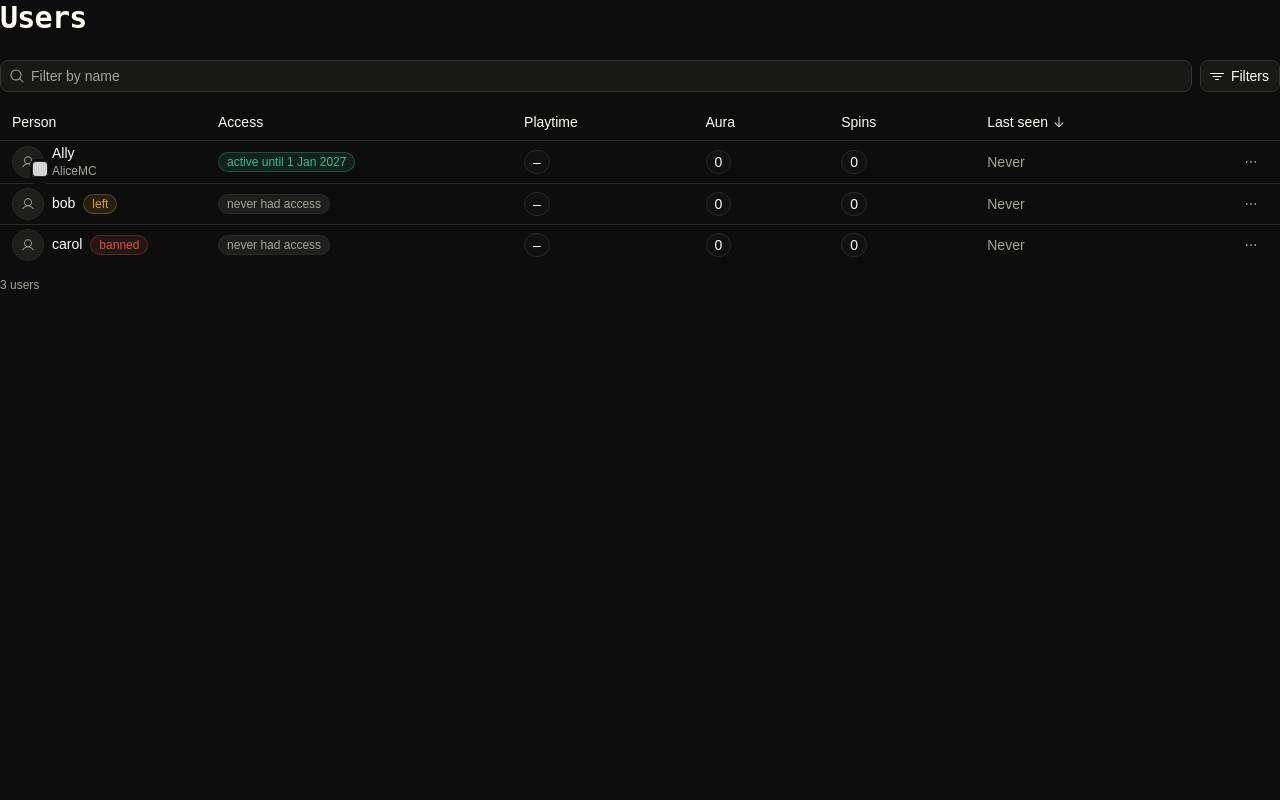
Scenario: AccessPage - access changes are asked of the bot › grants from a person's row with no id to type, and has no grant of its own at the top
The image size is (1280, 800).
Expected: the button "Grant access" is not shown
What coordinates should you click on to do the following:
click the button named "Actions for"
I would click on:
 (1251, 162)
Its box is [1234,145,1268,179].
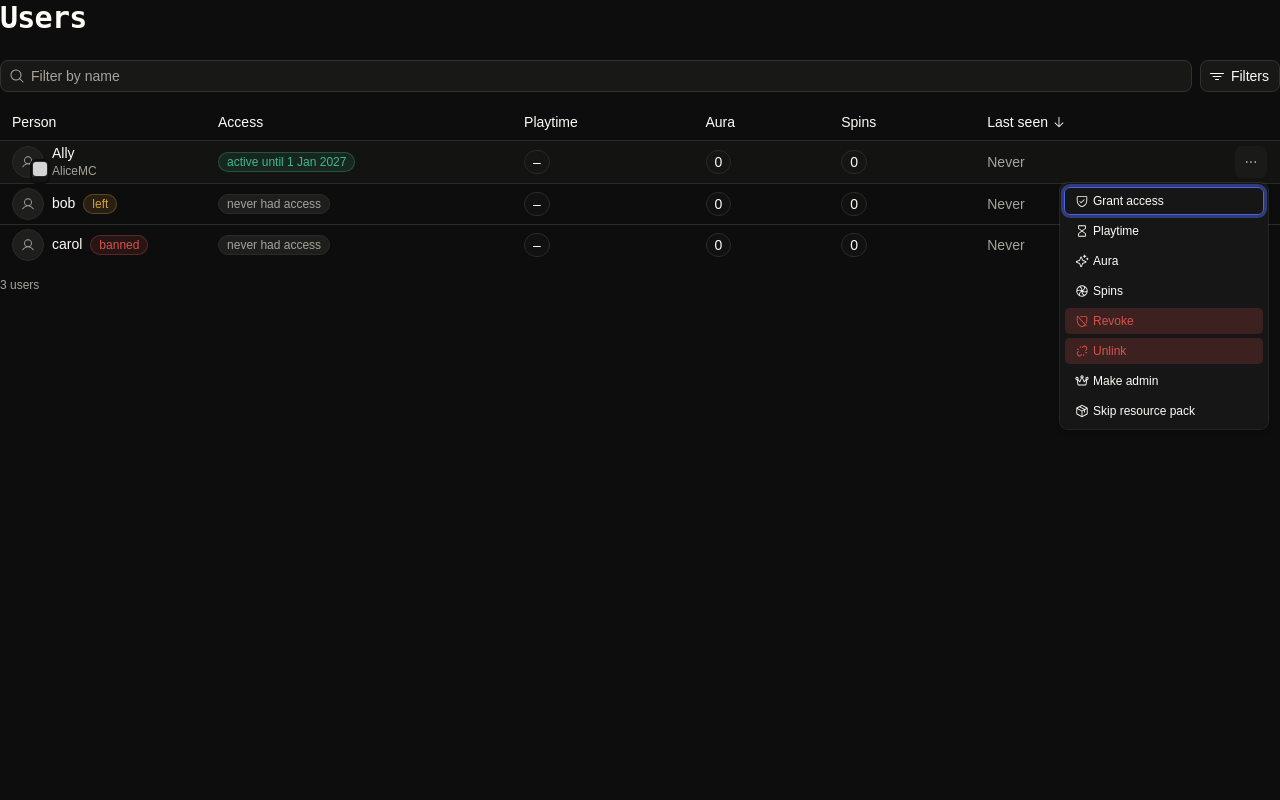
What coordinates should you click on to do the following:
click the button "Grant access"
I would click on:
 (1164, 201)
Its box is [1064,187,1264,215].
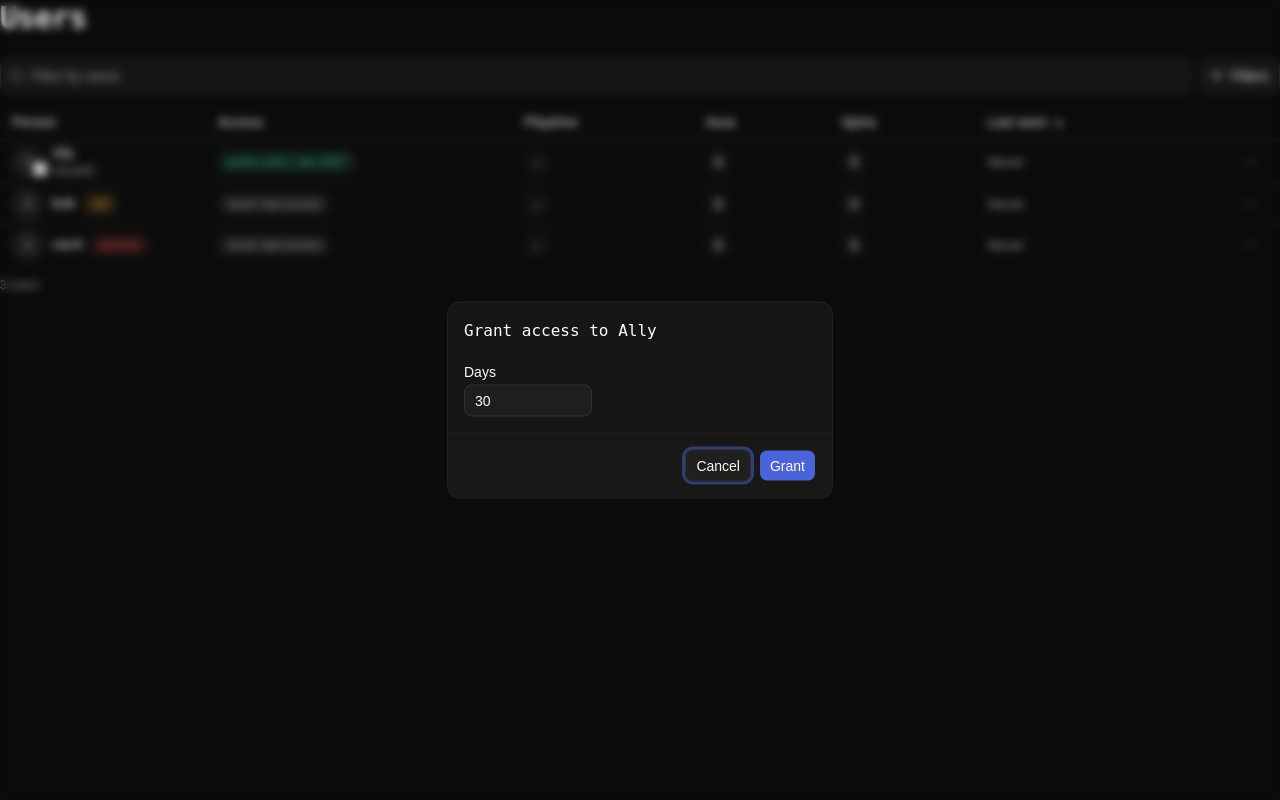
Result: the heading "Grant access to Ally" is shown at [464,318,657,342]
